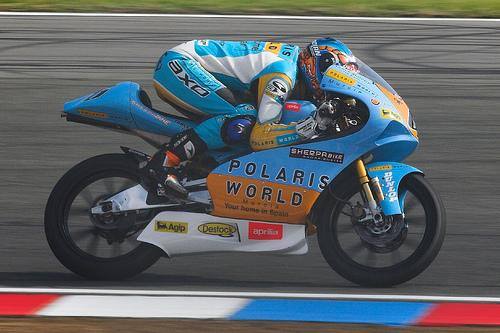motorbike: (36, 72, 436, 276)
